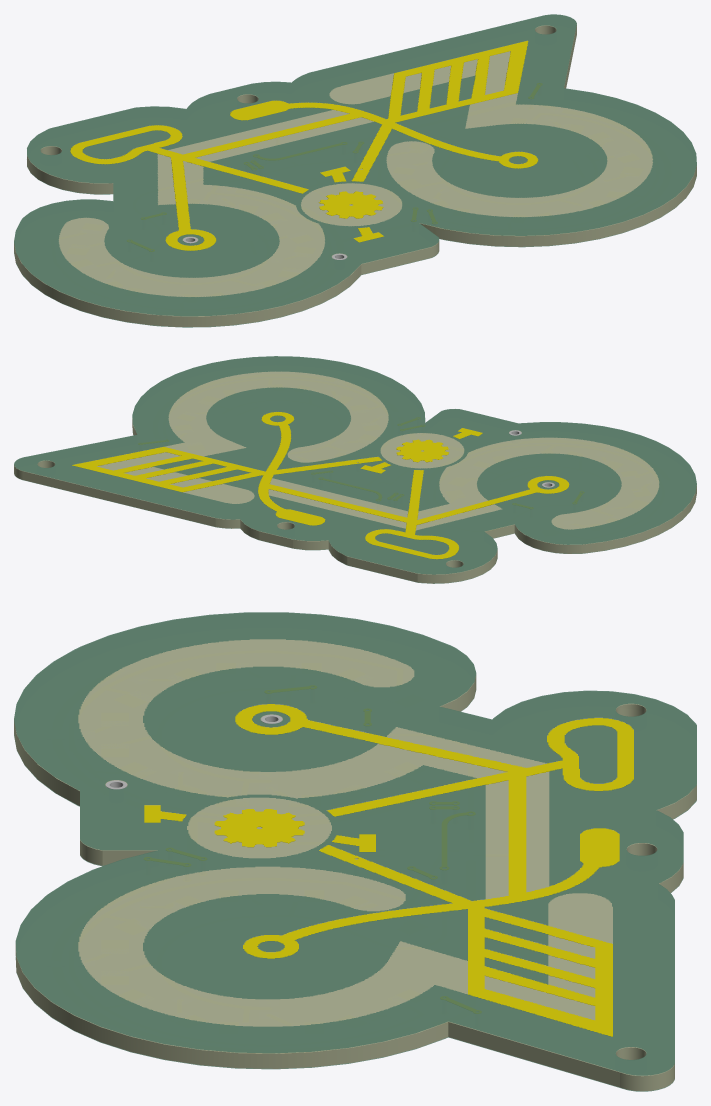
Rendered from bike-badge.glb.
The picture shows the model from 3 angles, top to bottom: view 1: azimuth 30°, elevation 25°; view 2: azimuth 150°, elevation 25°; view 3: azimuth 270°, elevation 25°; orthographic projection. The views are drawn at different scales.
Visible parts, largest first — view 1: =>[0:1:1:8], =>[0:1:1:6], =>[0:1:1:2]; view 2: =>[0:1:1:8], =>[0:1:1:6], =>[0:1:1:2]; view 3: =>[0:1:1:8], =>[0:1:1:6], =>[0:1:1:2].
Boxes of the visible parts, x1,y1,x2,y2 form: =>[0:1:1:8]: (14, 15, 696, 326); =>[0:1:1:6]: (14, 14, 696, 327); =>[0:1:1:2]: (70, 40, 541, 259); =>[0:1:1:8]: (14, 357, 696, 583); =>[0:1:1:6]: (14, 356, 696, 583); =>[0:1:1:2]: (72, 412, 583, 559); =>[0:1:1:8]: (14, 613, 696, 1091); =>[0:1:1:6]: (14, 612, 696, 1091); =>[0:1:1:2]: (106, 686, 633, 1036).
Bounding box in the file's own units: 0.0999 × 0.00164 × 0.0622.
Materials: 4 (4 with a texture image).
